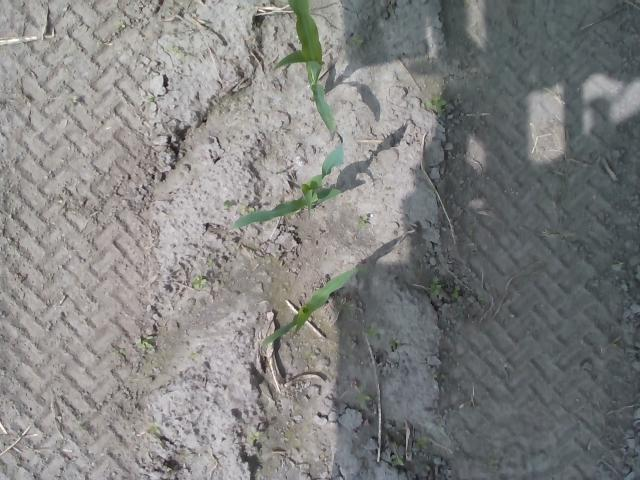Maize: (232, 142, 346, 232), (272, 0, 337, 134), (258, 269, 354, 350)
Weeds: (422, 95, 448, 112), (356, 386, 370, 409), (134, 334, 156, 348), (429, 276, 442, 297), (350, 34, 364, 48), (192, 276, 208, 288), (388, 336, 399, 350), (358, 215, 369, 226), (392, 456, 404, 466), (248, 432, 260, 441), (366, 327, 376, 337), (222, 200, 232, 209)
